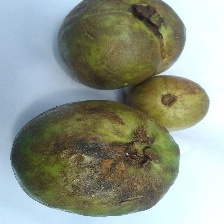guava: (22, 29, 196, 169)
